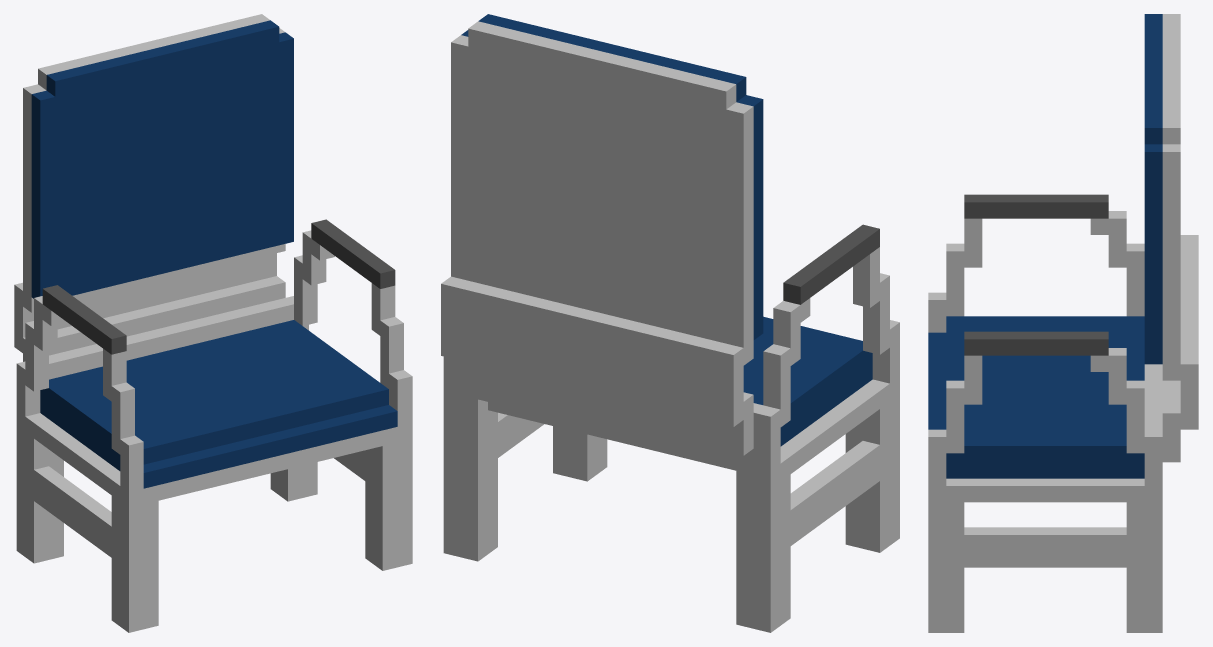
The model's file is Chair3-1.fbx.
3 renders of one model, left to right at view 1: azimuth 30°, elevation 25°; view 2: azimuth 150°, elevation 25°; view 3: azimuth 270°, elevation 25°, orthographic. The views are drawn at different scales.
Visible parts, largest first — view 1: Chair3-1.002, Chair3-1.001, Chair3-1; view 2: Chair3-1.002, Chair3-1.001, Chair3-1; view 3: Chair3-1.002, Chair3-1.
Boxes of the visible parts, bbox=[...] form: Chair3-1.002: bbox=[14, 14, 412, 507]; Chair3-1.001: bbox=[16, 426, 158, 632]; Chair3-1: bbox=[270, 439, 412, 570]; Chair3-1.002: bbox=[441, 14, 899, 488]; Chair3-1.001: bbox=[736, 394, 899, 632]; Chair3-1: bbox=[443, 409, 607, 561]; Chair3-1.002: bbox=[928, 14, 1198, 502]; Chair3-1: bbox=[928, 502, 1162, 632].
Bounding box in the file's own units: 1.9 × 3 × 1.5.
